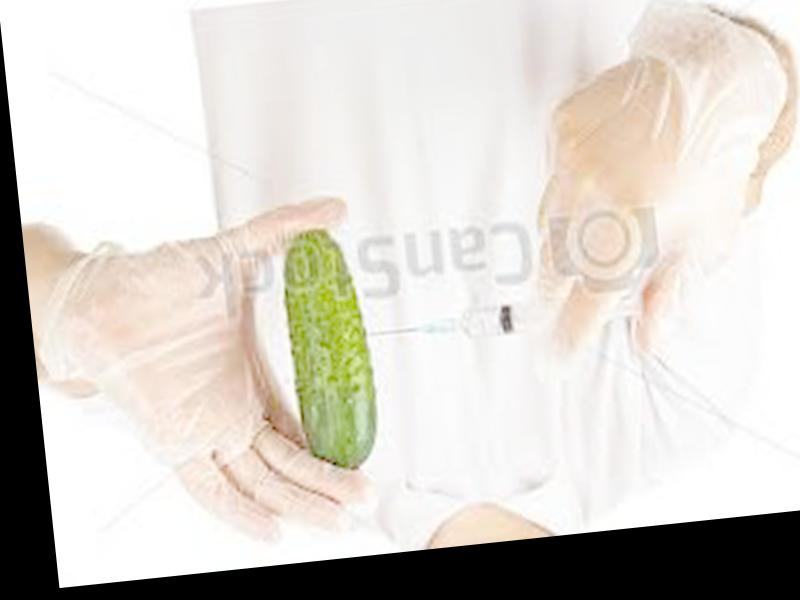Cucumber: (274, 221, 379, 475)
